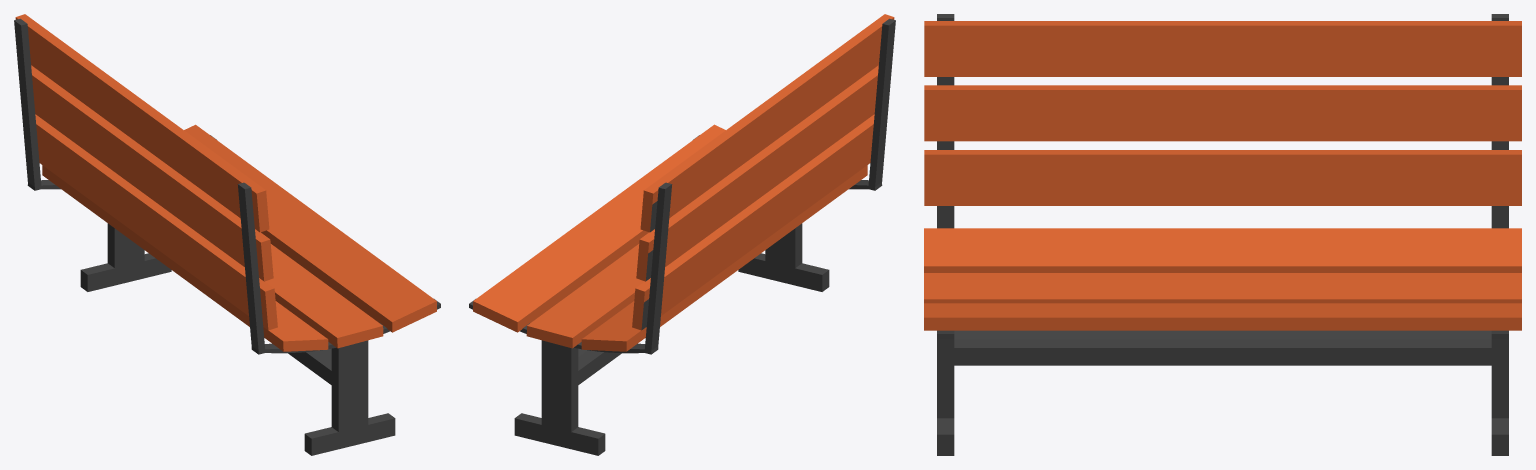
File: bank.fbx
3 renders of one model, left to right at view 1: azimuth 30°, elevation 25°; view 2: azimuth 150°, elevation 25°; view 3: azimuth 270°, elevation 25°, orthographic. The views are drawn at different scales.
Parts seen in each view (by area): view 1: BézierCurve; view 2: BézierCurve; view 3: BézierCurve.
Part boxes in pixels (left/top/right/bottom): BézierCurve: left=14, top=14, right=440, bottom=455; BézierCurve: left=469, top=14, right=895, bottom=455; BézierCurve: left=924, top=14, right=1521, bottom=455.
Bounding box in the file's own units: 0.5346 × 0.7371 × 1.14.
